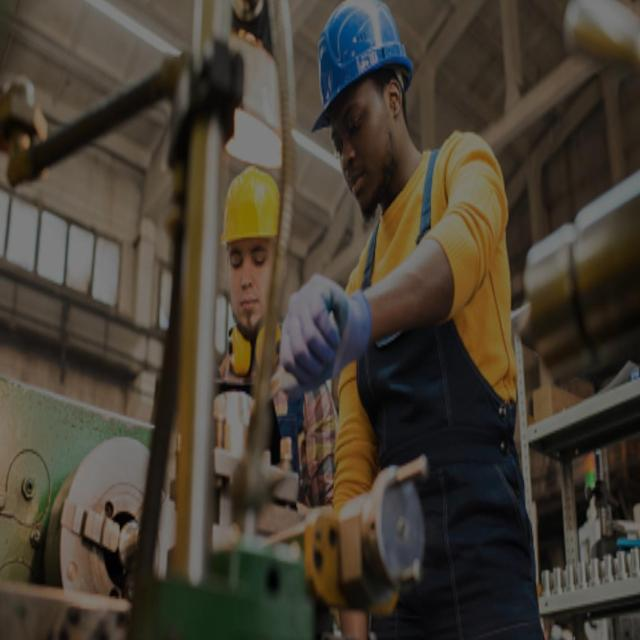Reflective-Jacket: (328, 139, 520, 526)
Safety-Helmet: (306, 0, 416, 134), (218, 160, 286, 250)
